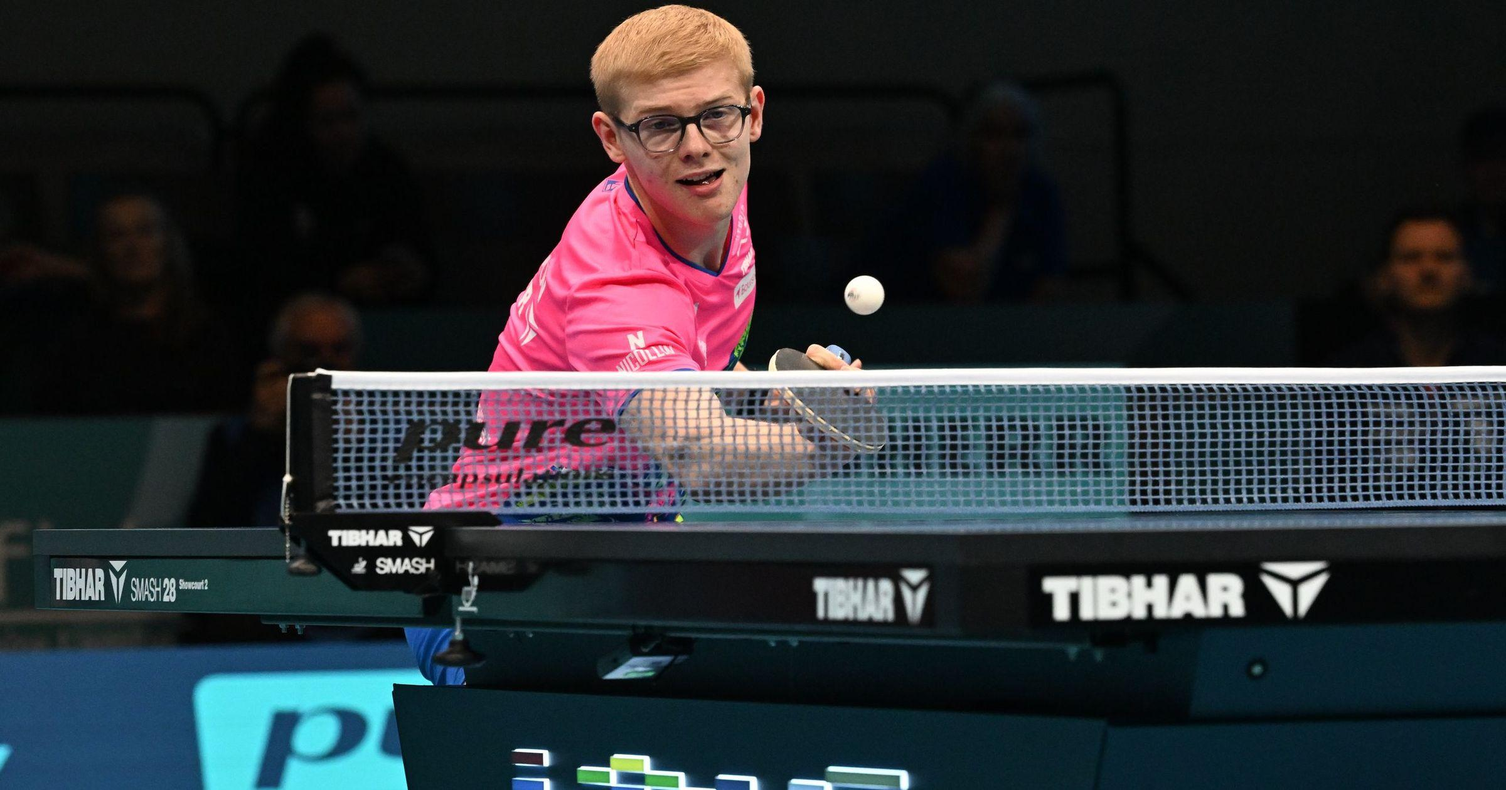ball_pingpong: (842, 273, 884, 317)
